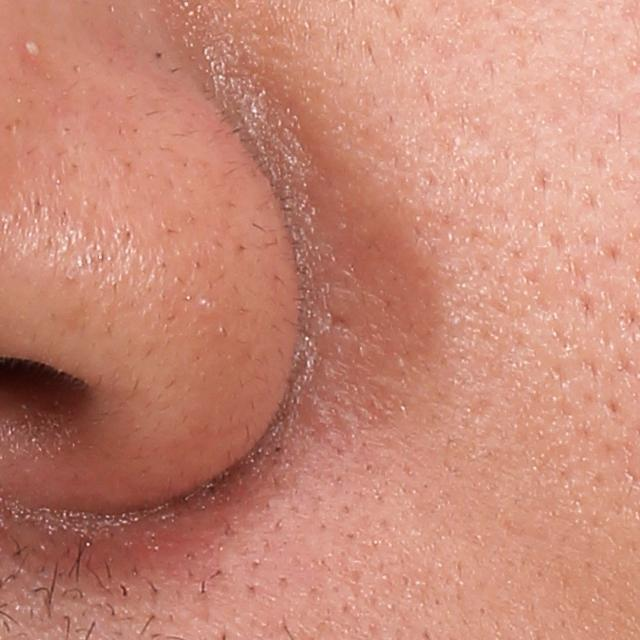pustule: (20, 34, 47, 62)
